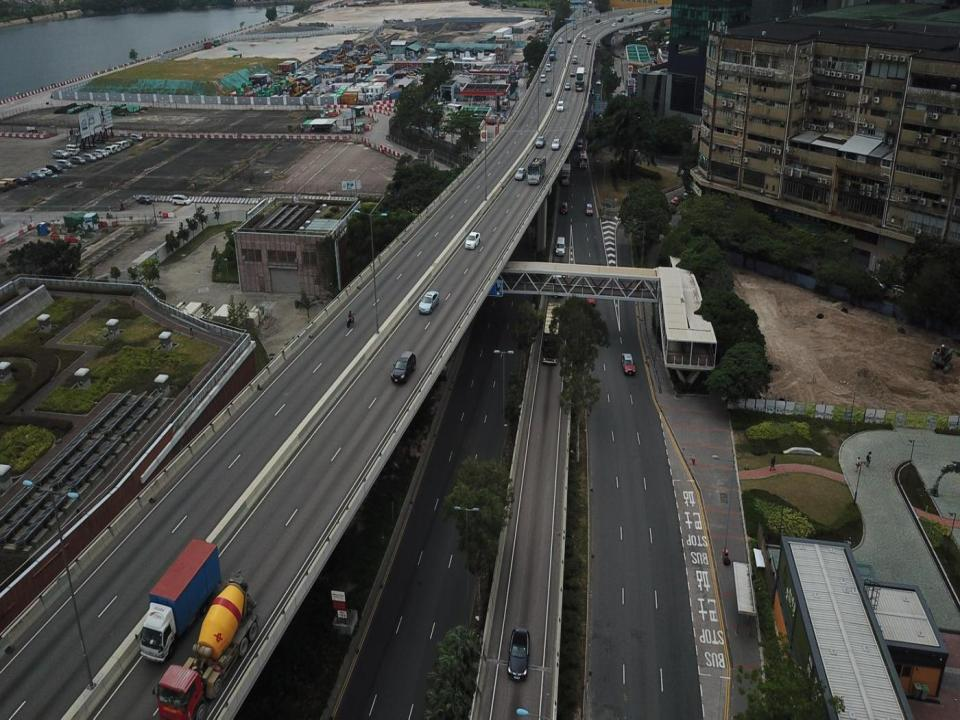bus: (542, 300, 560, 364), (576, 66, 586, 93), (579, 148, 588, 170), (501, 99, 510, 110)
car: (504, 626, 533, 682), (390, 351, 418, 385), (418, 291, 442, 315), (619, 350, 637, 375), (464, 230, 482, 250), (170, 194, 192, 207), (554, 234, 566, 256), (586, 286, 597, 306), (514, 166, 527, 181), (136, 195, 153, 206), (535, 133, 545, 150), (584, 200, 594, 215), (670, 194, 682, 206), (36, 167, 52, 176), (555, 99, 566, 112), (28, 171, 45, 179), (558, 201, 569, 213), (551, 137, 561, 150), (83, 152, 96, 162), (95, 149, 108, 158), (102, 146, 116, 154), (112, 141, 123, 150), (571, 54, 578, 68), (576, 137, 584, 149), (90, 152, 102, 160), (109, 144, 121, 152), (14, 178, 27, 185), (120, 139, 130, 148), (123, 136, 133, 145), (26, 174, 36, 182), (564, 82, 571, 92), (540, 72, 547, 82), (569, 68, 576, 78), (616, 15, 624, 23), (654, 7, 662, 15), (545, 88, 552, 96), (660, 9, 668, 16), (558, 36, 564, 44), (566, 36, 572, 44), (545, 63, 551, 70), (572, 23, 578, 30), (581, 31, 586, 38), (595, 17, 600, 23), (611, 21, 616, 27), (628, 16, 634, 21)
truck: (157, 569, 260, 719), (134, 538, 223, 662), (63, 212, 100, 232), (528, 156, 546, 185), (561, 162, 570, 186), (50, 149, 66, 158), (547, 48, 556, 60)
van: (0, 178, 19, 188), (46, 164, 63, 174), (56, 158, 72, 168), (69, 154, 85, 164), (65, 144, 80, 154), (130, 133, 142, 142), (0, 181, 10, 191), (64, 148, 76, 156), (585, 36, 592, 46)
